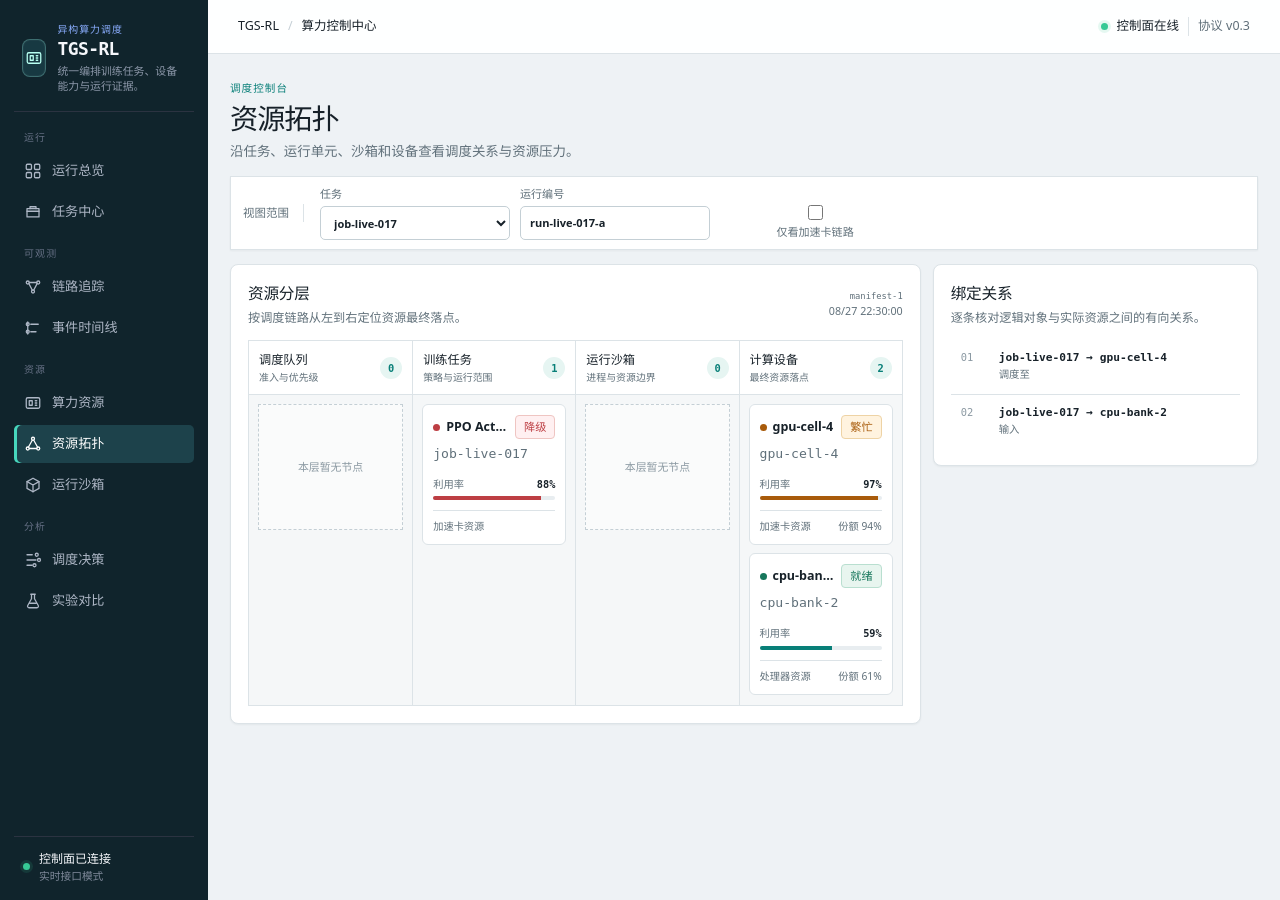
Test case: TopologyPage › requests topology with selected run and filters GPU-only nodes in the UI
This screenshot has width=1280, height=900.
Expected: the text "PPO Actor-Critic Burst" is shown, [446, 418, 509, 436]
Click the checkbox labelled "仅看加速卡链路": (815, 212) [808, 205, 823, 220]
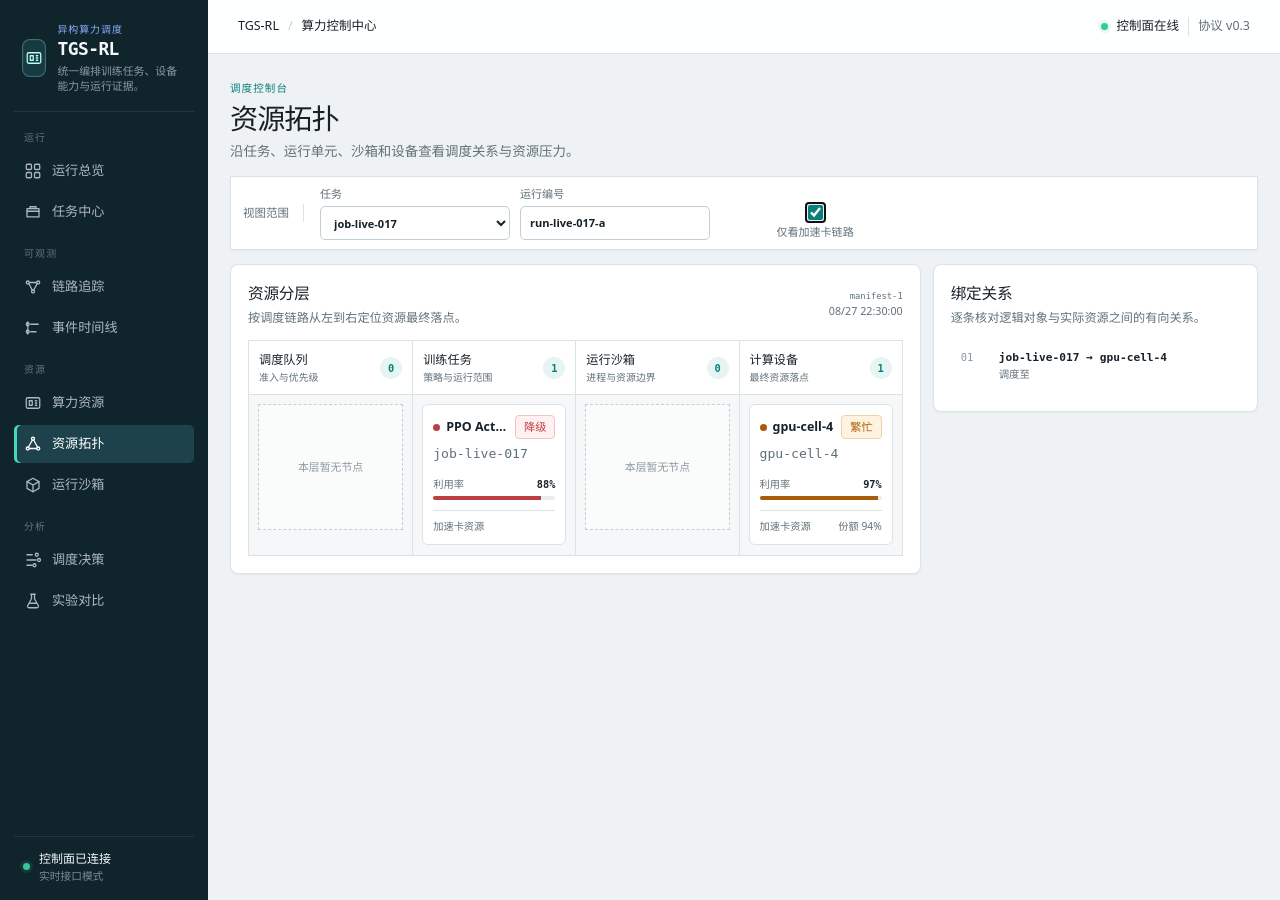
Expected: the text "gpu-cell-4" next to "繁忙" is shown, [772, 418, 833, 435]
Result: the text "cpu-bank-2" is gone
Result: the text "job-live-017 → cpu-bank-2" is gone
